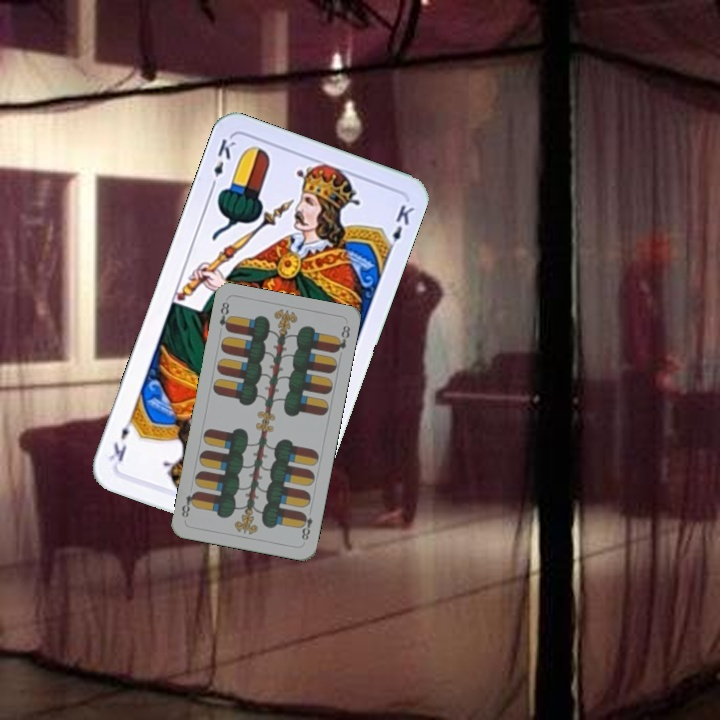E8: (296, 505, 315, 543), (215, 298, 234, 334)
EK: (206, 134, 238, 192)
